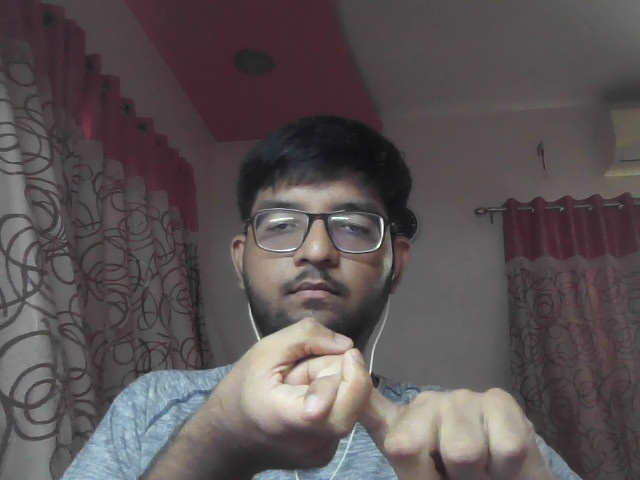મિત્ર: (196, 313, 549, 479)
